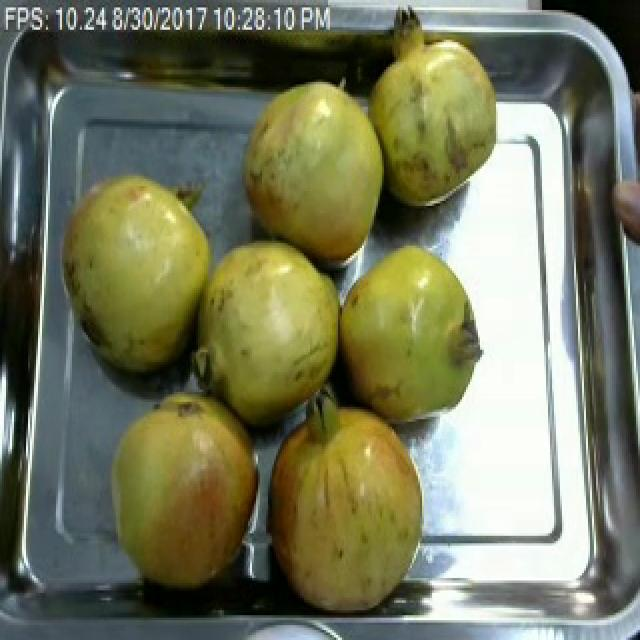fruit: (252, 387, 440, 628), (94, 372, 280, 598), (54, 161, 226, 385), (184, 226, 350, 439), (332, 233, 486, 437), (358, 17, 510, 221), (234, 72, 394, 265)
